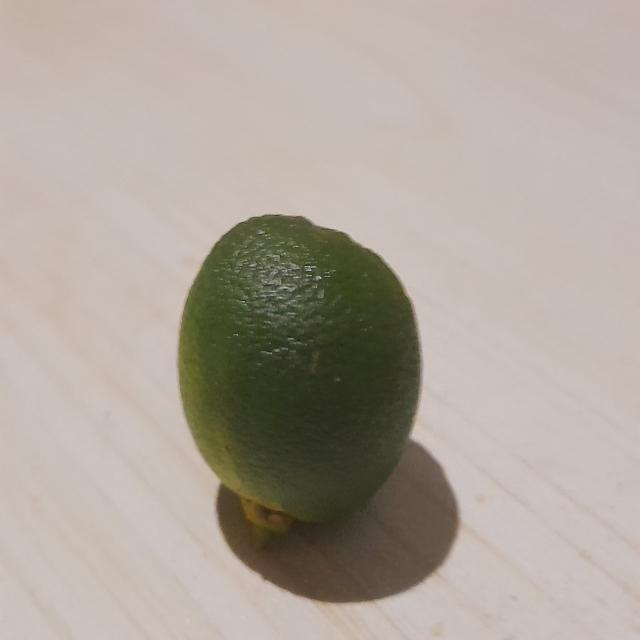heathy: (174, 206, 430, 538)
